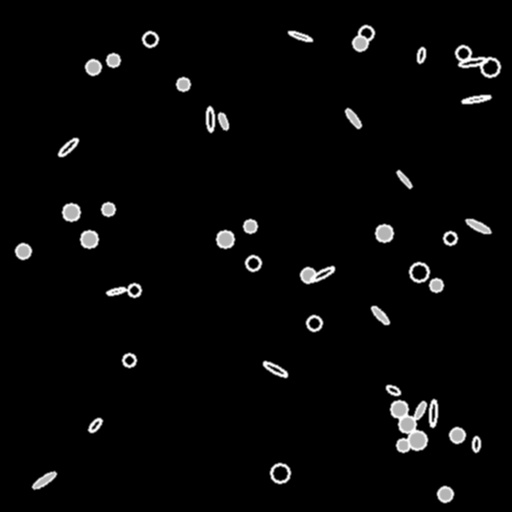pseudomonas: (56, 136, 80, 158), (31, 470, 57, 490), (308, 265, 336, 283), (262, 360, 288, 378), (465, 217, 491, 235), (370, 304, 390, 326), (344, 107, 362, 129), (461, 94, 491, 104), (396, 170, 412, 188), (288, 30, 312, 42), (413, 400, 427, 420), (459, 57, 487, 67), (87, 417, 103, 433), (217, 112, 229, 130), (429, 400, 437, 426), (385, 384, 401, 396), (416, 47, 426, 63), (207, 107, 213, 131), (107, 287, 125, 295), (472, 436, 480, 452)
synechocystis: (410, 263, 428, 281), (271, 464, 289, 482), (408, 431, 426, 449), (481, 58, 499, 76), (376, 225, 392, 241), (217, 231, 233, 247), (399, 416, 415, 432), (63, 204, 79, 220), (391, 401, 407, 417), (81, 231, 97, 247), (143, 32, 157, 46), (456, 46, 470, 60), (16, 244, 30, 258), (359, 26, 373, 40), (246, 256, 260, 270), (450, 428, 464, 442), (86, 60, 100, 74), (353, 36, 367, 50), (301, 268, 315, 282), (307, 316, 321, 330), (438, 487, 452, 501), (444, 232, 456, 244), (123, 354, 135, 366), (102, 203, 114, 215), (430, 279, 442, 291), (107, 54, 119, 66), (177, 78, 189, 90), (397, 439, 409, 451), (128, 284, 140, 296), (244, 220, 256, 232)
